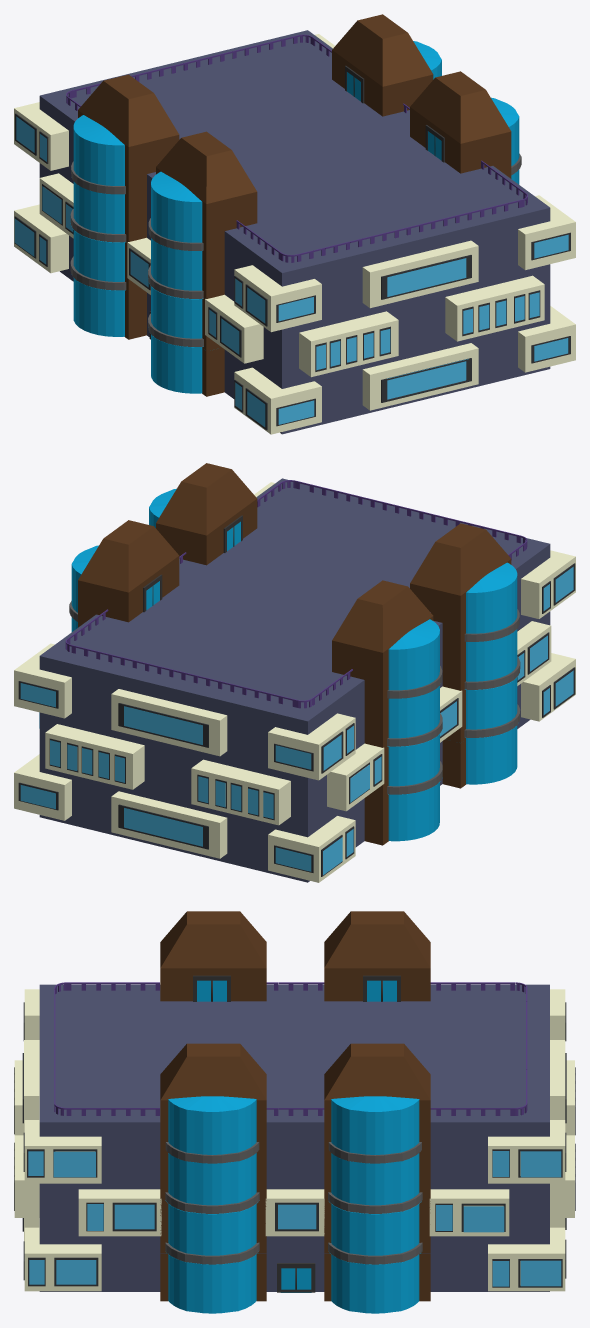
Rendered from appartment.fbx.
3 views of the same model, one above another, from view 1: azimuth 30°, elevation 25°; view 2: azimuth 150°, elevation 25°; view 3: azimuth 270°, elevation 25° (orthographic). The views are drawn at different scales.
Parts seen in each view (by area): view 1: Cube.001, Cube, Cylinder, Cube.002, Cube.003; view 2: Cube.001, Cube, Cylinder, Cube.002, Cube.003; view 3: Cube, Cube.001, Cylinder, Cube.003, Cube.002.
Boxes of the visible parts, left/top/right/bottom form: Cube.001: left=14, top=14, right=575, bottom=434; Cube: left=39, top=30, right=550, bottom=434; Cylinder: left=70, top=41, right=521, bottom=393; Cube.002: left=66, top=34, right=527, bottom=262; Cube.003: left=149, top=65, right=444, bottom=339; Cube.001: left=14, top=463, right=575, bottom=882; Cube: left=39, top=478, right=550, bottom=882; Cylinder: left=69, top=488, right=520, bottom=841; Cube.002: left=65, top=480, right=527, bottom=708; Cube.003: left=143, top=515, right=242, bottom=612; Cube: left=39, top=984, right=549, bottom=1291; Cube.001: left=14, top=911, right=575, bottom=1301; Cylinder: left=165, top=1096, right=422, bottom=1313; Cube.003: left=193, top=975, right=400, bottom=1292; Cube.002: left=54, top=982, right=527, bottom=1115.
Bounding box in the file's own units: 5305 × 3218 × 6824.
